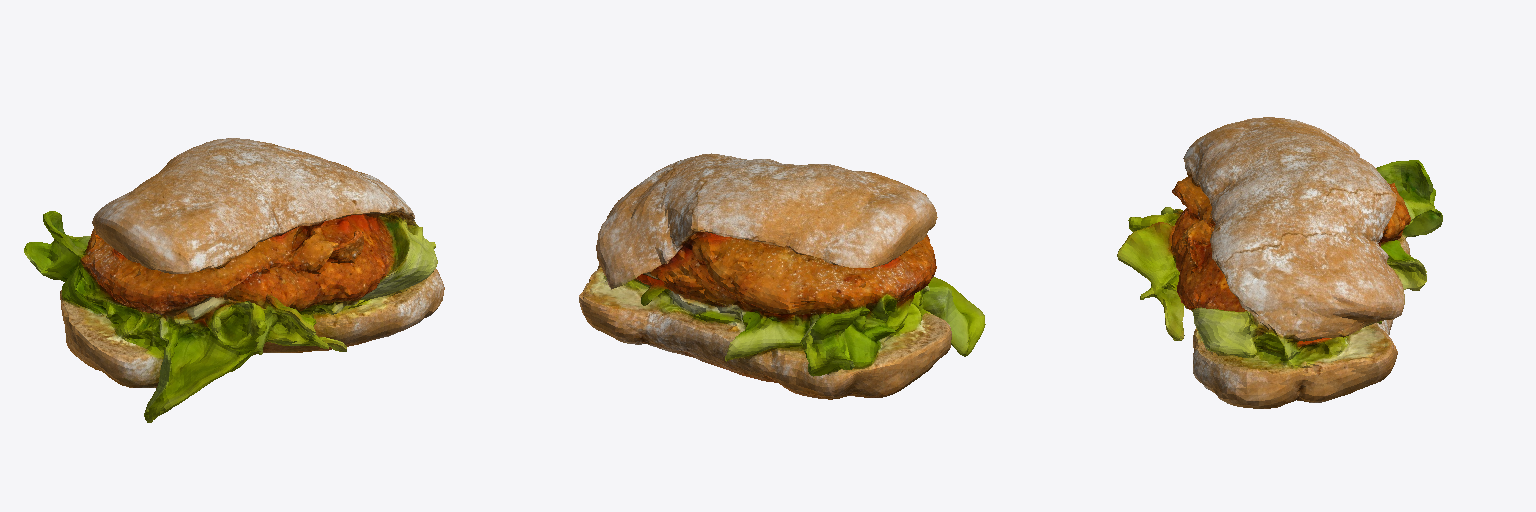
3 views of the same model, side by side, from view 1: azimuth 30°, elevation 25°; view 2: azimuth 150°, elevation 25°; view 3: azimuth 270°, elevation 25° (orthographic).
Visible parts, largest first — view 1: Group55979; view 2: Group55979; view 3: Group55979.
Boxes of the visible parts, <box> form: Group55979: <box>24,138,444,422</box>; Group55979: <box>579,153,985,399</box>; Group55979: <box>1117,117,1442,408</box>.
Bounding box in the file's own units: 0.2248 × 0.12 × 0.1856.
Materials: 1 (1 with a texture image).